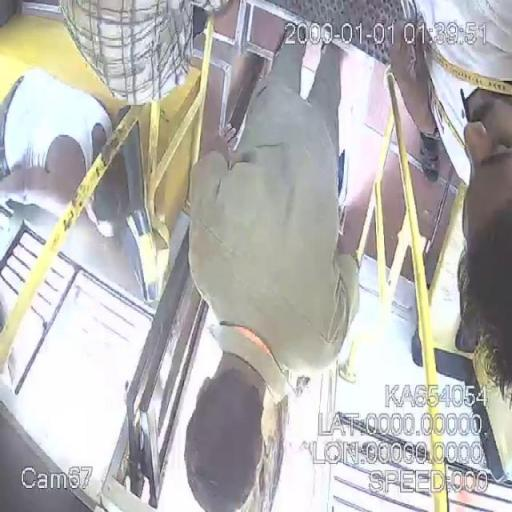persona: (185, 21, 361, 512), (382, 2, 512, 384), (0, 66, 125, 240)
